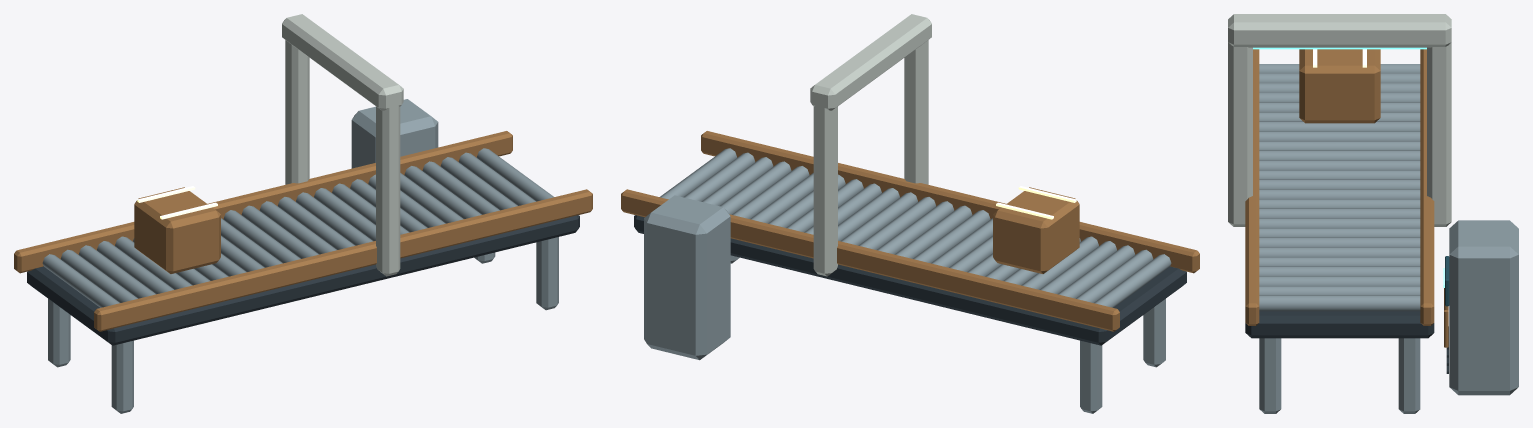
The model's file is parcel-sorter.lod0.glb.
The picture shows the model from 3 angles, left to right: view 1: azimuth 30°, elevation 25°; view 2: azimuth 150°, elevation 25°; view 3: azimuth 270°, elevation 25°; orthographic projection. The views are drawn at different scales.
Parts seen in each view (by area): view 1: structure, parcel; view 2: structure, parcel; view 3: structure, parcel.
Part boxes in pixels (x1=…): structure: x1=14, y1=14, x2=592, y2=413; parcel: x1=134, y1=186, x2=220, y2=273; structure: x1=621, y1=14, x2=1199, y2=413; parcel: x1=993, y1=186, x2=1079, y2=273; structure: x1=1228, y1=14, x2=1518, y2=413; parcel: x1=1299, y1=49, x2=1380, y2=123.
Bounding box in the file's own units: 6.3 × 3.34 × 2.93.
